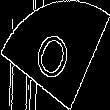O_SW: (32, 21, 78, 89)
